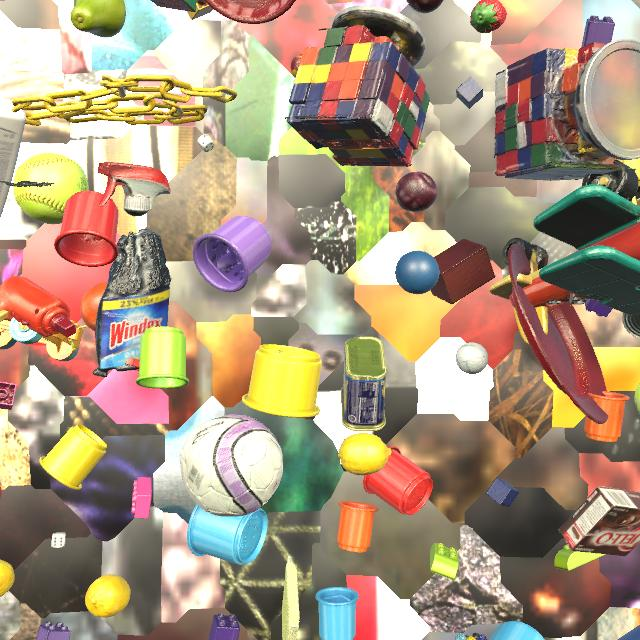ycb_007_tuna_fish_can: (622, 313, 640, 339)
ycb_008_pudding_box: (558, 486, 640, 556)
ycb_010_potted_meat_can: (340, 336, 387, 431)
ycb_012_strawberry: (470, 0, 507, 34), (0, 486, 2, 498)
ycb_014_lemon: (338, 433, 391, 475), (85, 574, 131, 618), (0, 560, 15, 597)
ycb_016_pear: (70, 0, 126, 37)
ycb_017_orange: (80, 282, 108, 331)
ycb_018_plum: (395, 172, 438, 212), (406, 0, 444, 13)
